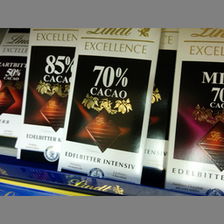chocolate: (66, 28, 156, 184), (169, 29, 224, 192), (20, 28, 76, 168)
